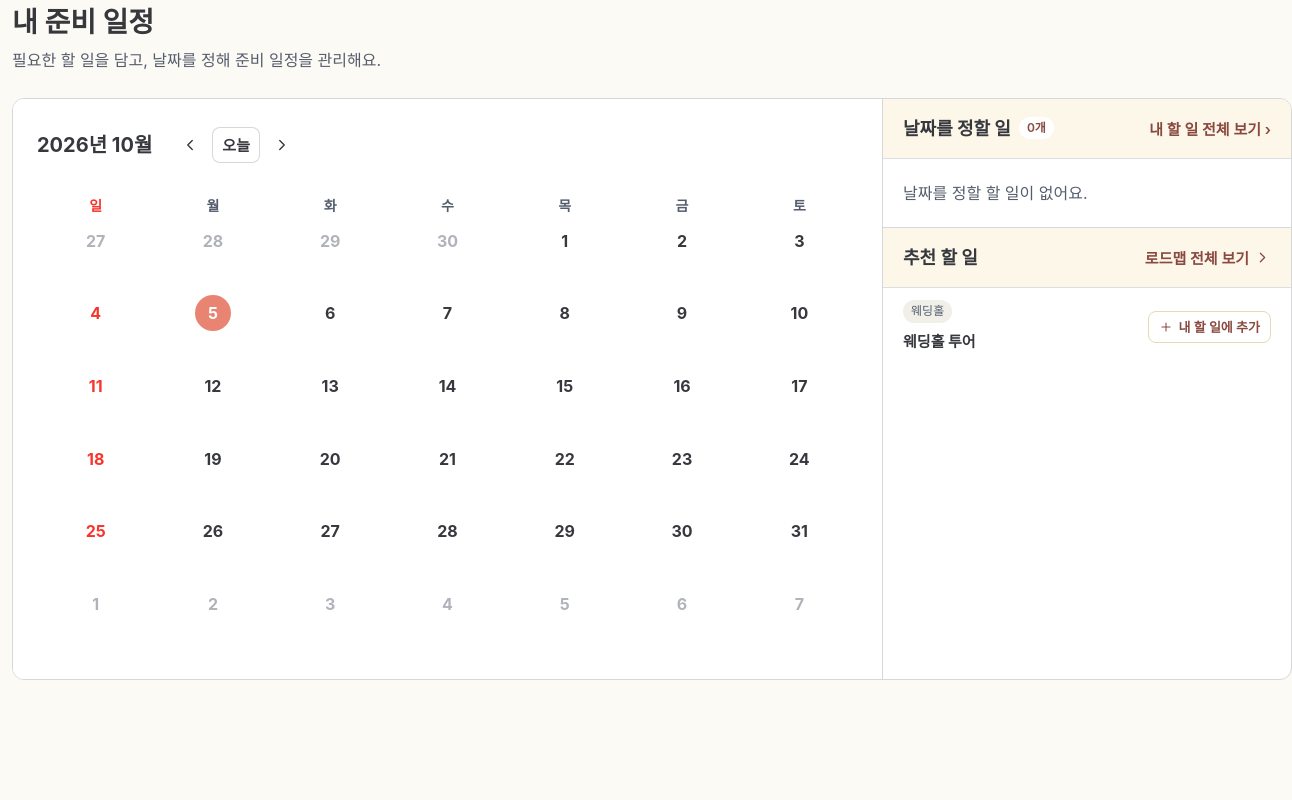
Test: calendar planning › 저장 중 중복 추가를 막고 실패하면 추천을 유지하며 재시도한다
Click the button "내 할 일에 추가": (1210, 327) [1148, 311, 1271, 343]
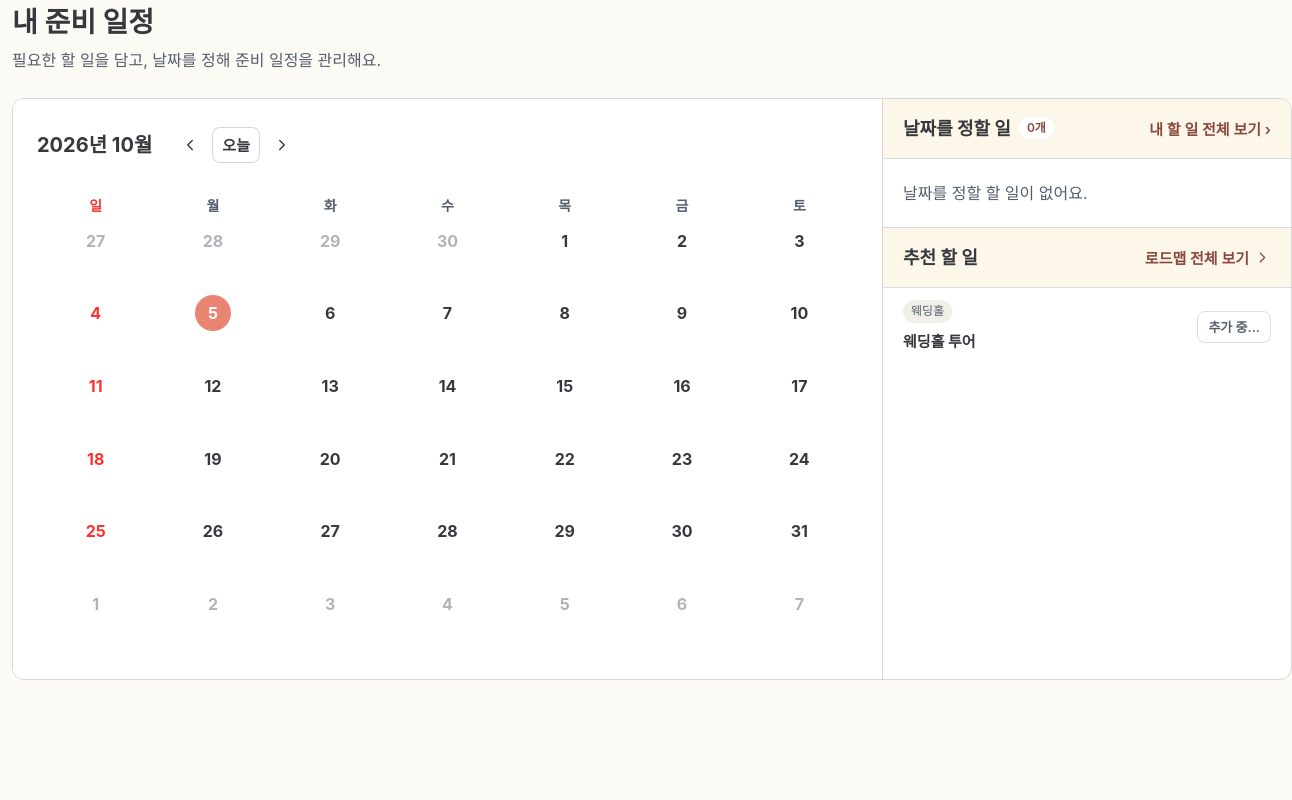
expect the button "추가 중..." is disabled: met
Click the button "추가 중...": (1234, 327) [1197, 311, 1271, 343]
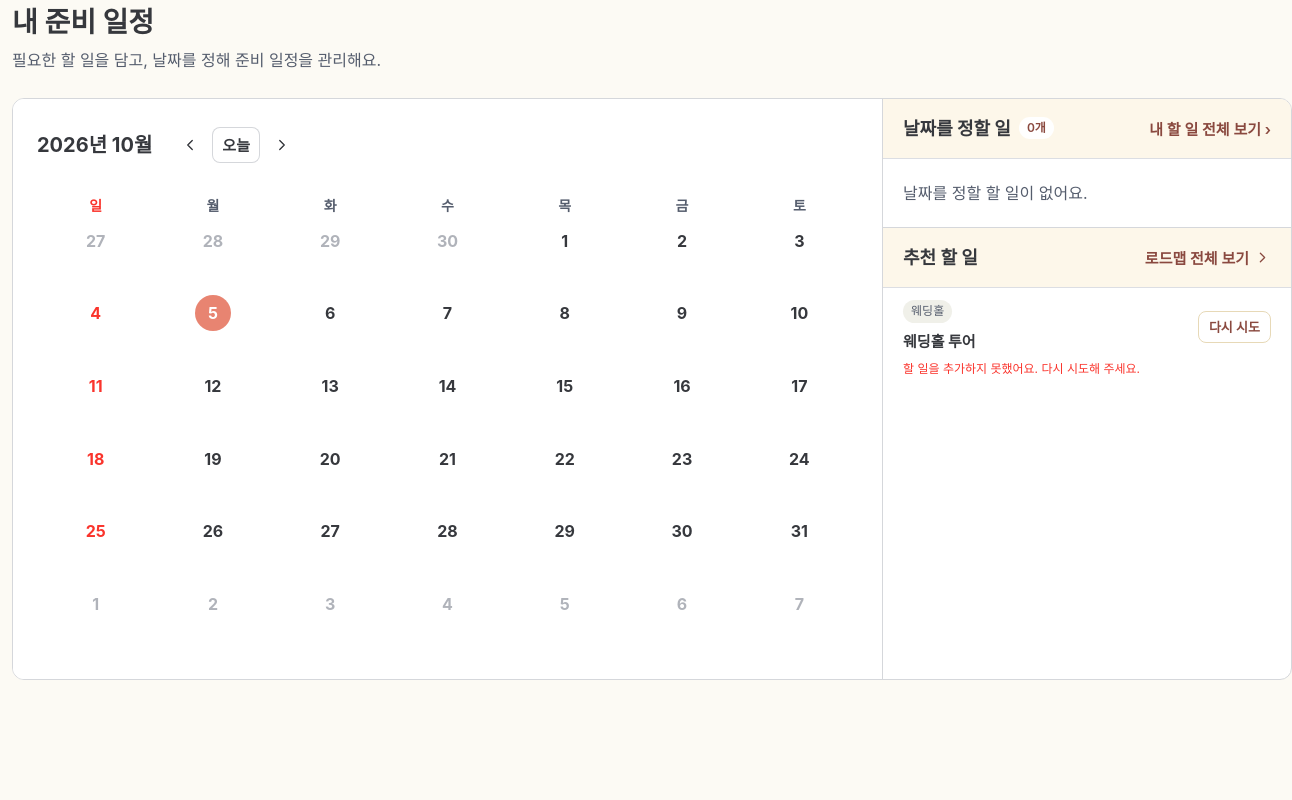
expect the heading "웨딩홀 투어" is shown: met, box [903, 332, 976, 351]
expect the button "다시 시도" is shown: met
Click the button "다시 시도": (1234, 327) [1198, 311, 1271, 343]
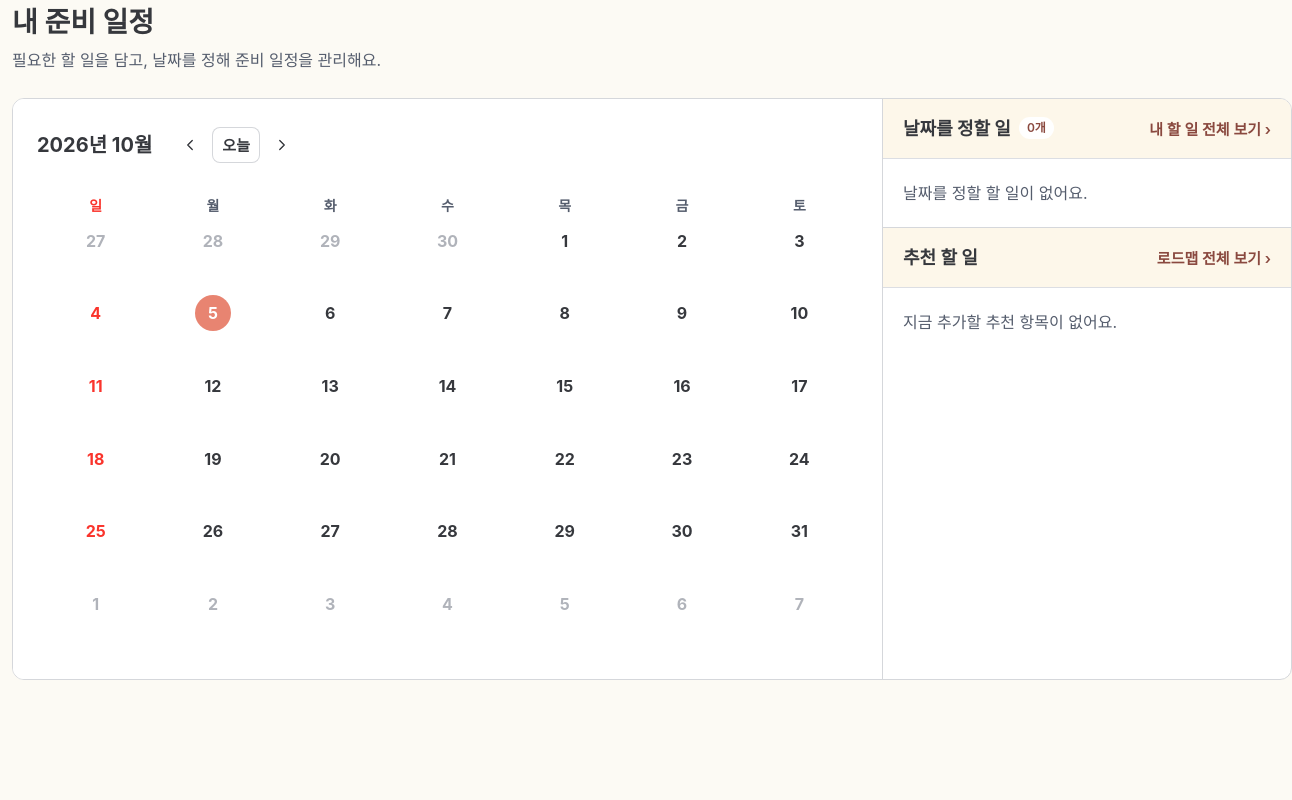
expect the message "할 일을 추가하지 못했어요. 다시 시도해 주세요." is gone: met
